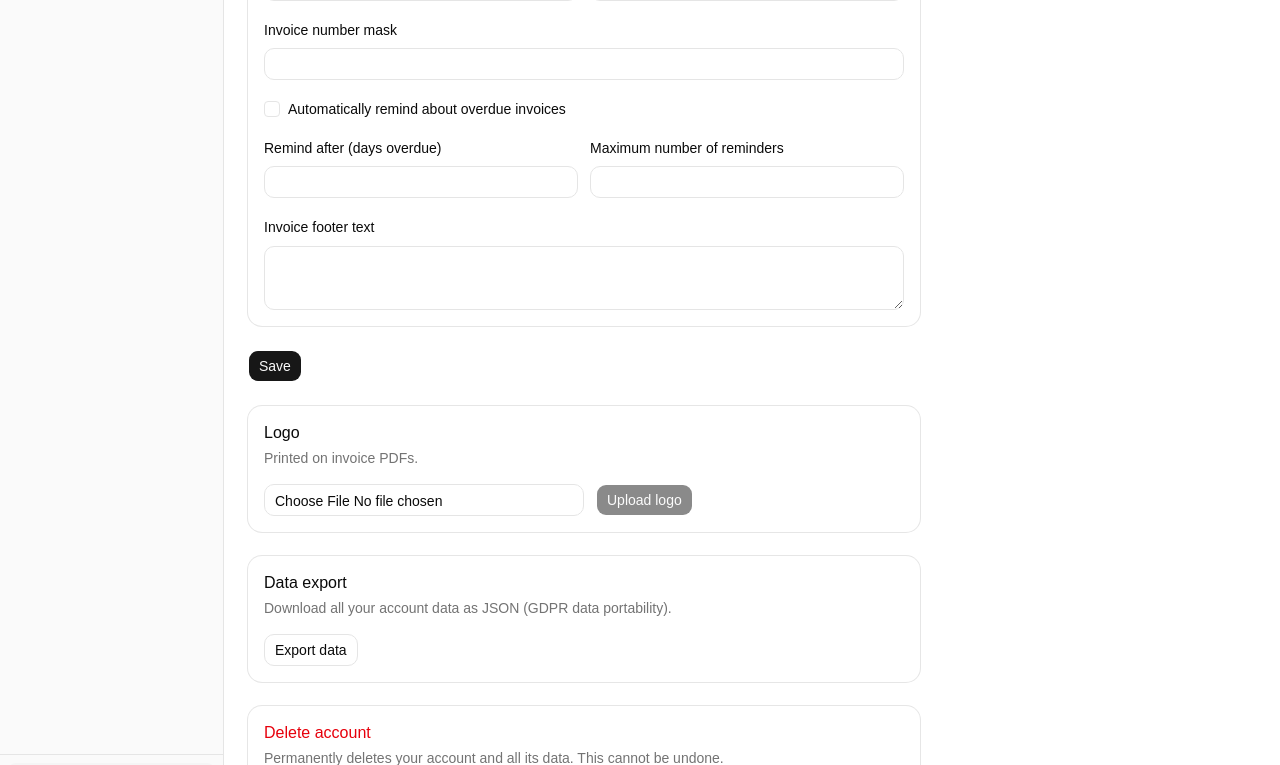
Test: profile settings › maps a 422 response onto the e-mail field
(page scrolled)
Click the button "Save" at [275, 366], box [248,350,302,382]
(page scrolled)
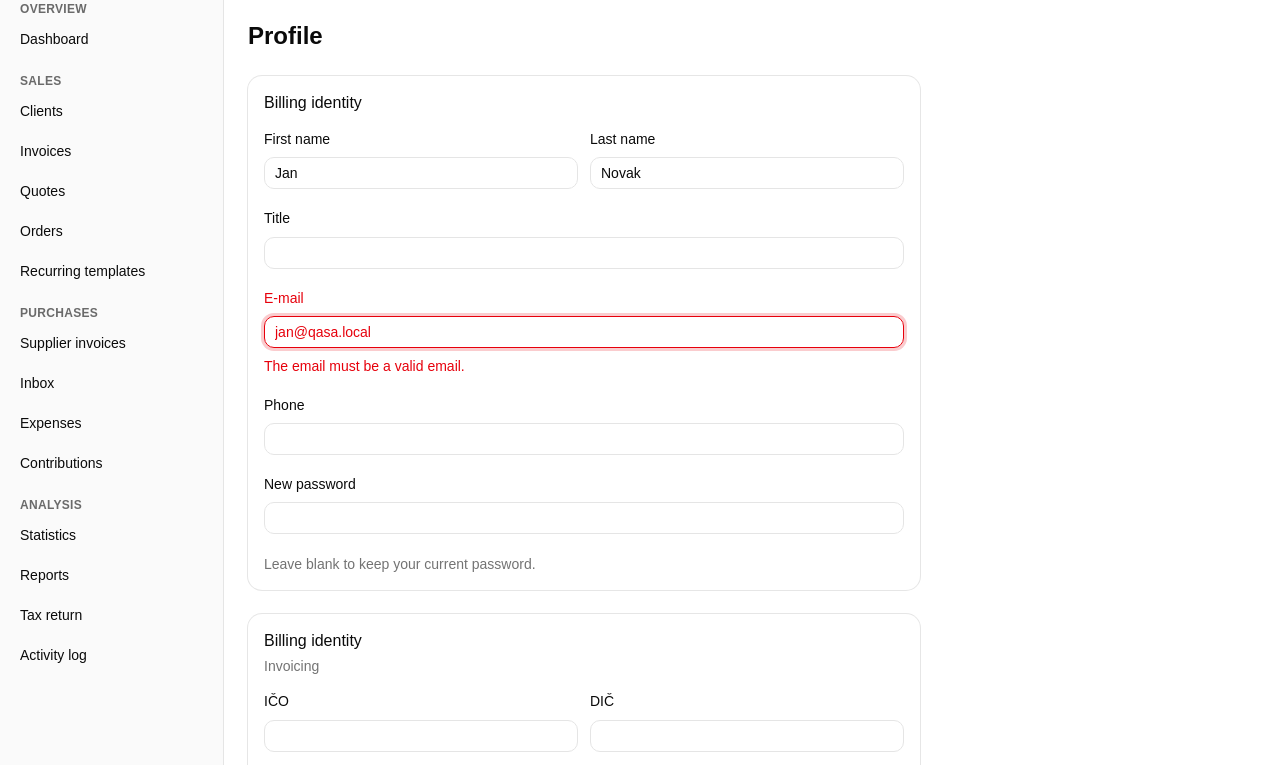
Check: the text "The email must be a valid email." is shown, box [264,358,465,374]
